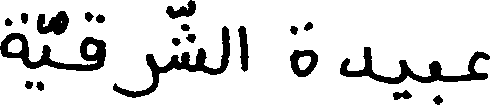ا: (238, 24, 246, 73)
ب: (429, 58, 446, 102)
ة: (0, 10, 25, 87), (290, 20, 316, 78)
د: (340, 45, 371, 79)
ر: (113, 52, 158, 98)
ش: (171, 22, 205, 73)
ع: (469, 49, 488, 82)
ق: (78, 9, 104, 70)
ل: (219, 24, 228, 74)
ي: (25, 41, 49, 90), (391, 58, 408, 102)
